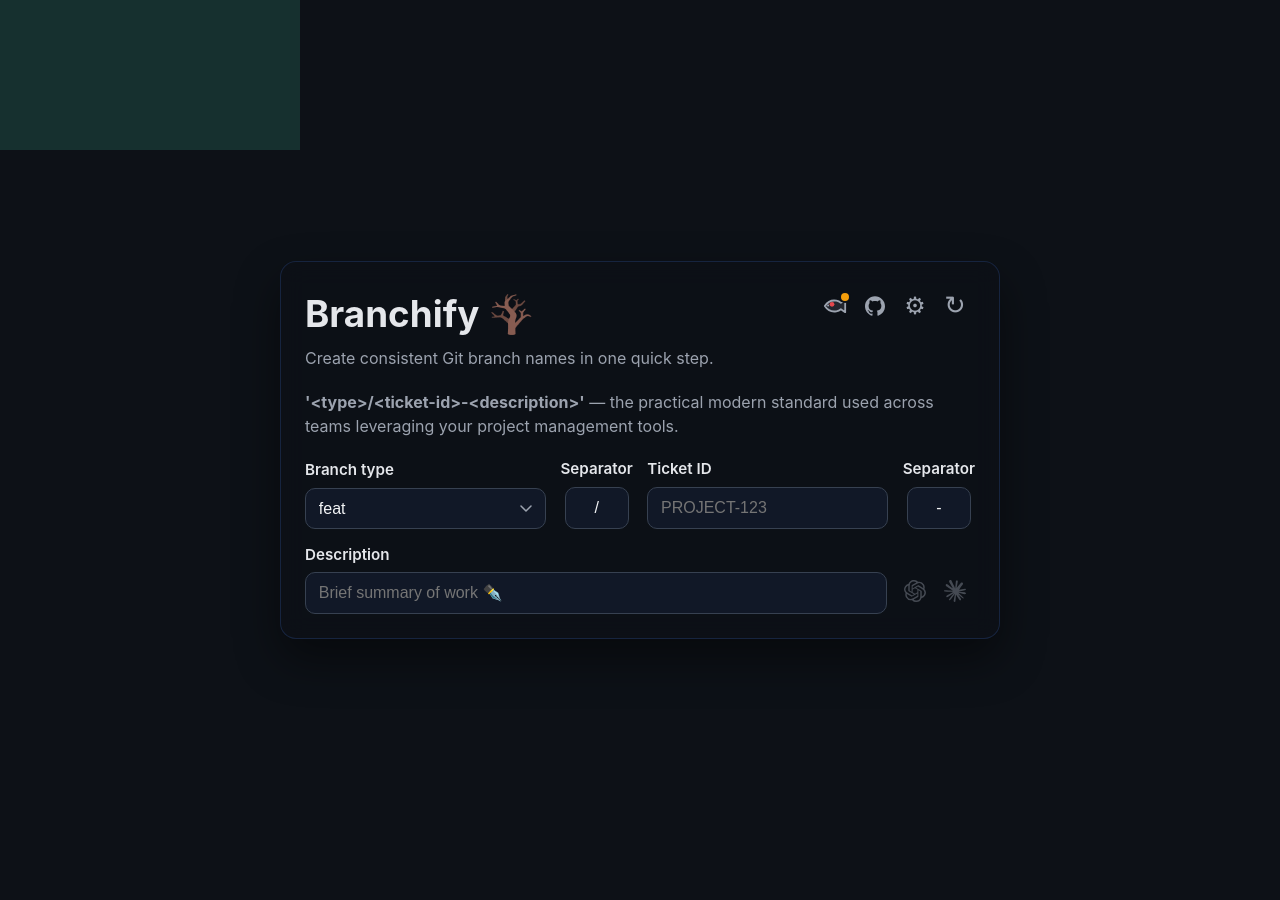
Scenario: App › clears the form on reset
Type "BRF-9" into the field labelled "Ticket ID". click: (768, 508)
box: [647, 487, 888, 529]
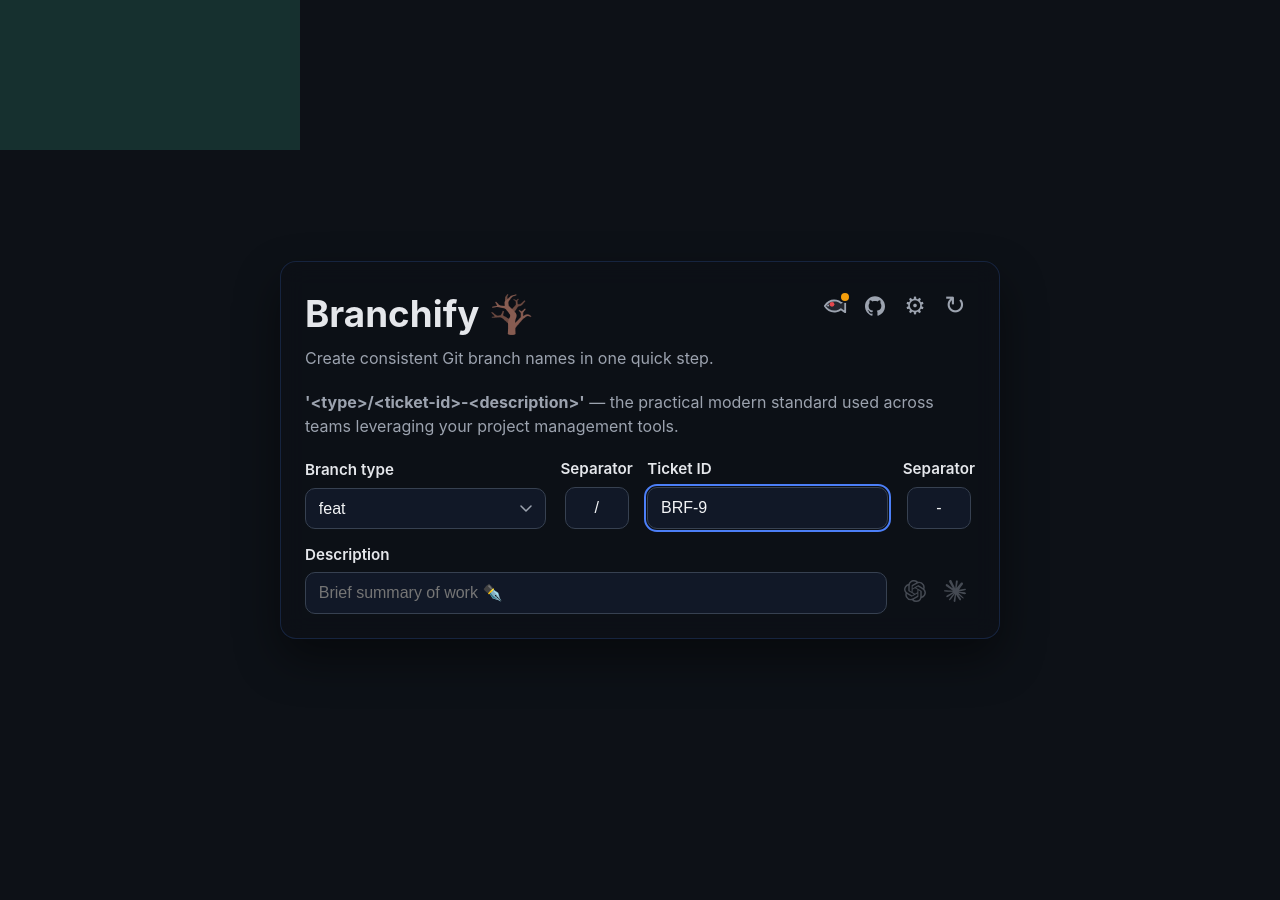
Type "Some work" into the field labelled "Description". click: (596, 593)
box: [305, 572, 887, 614]
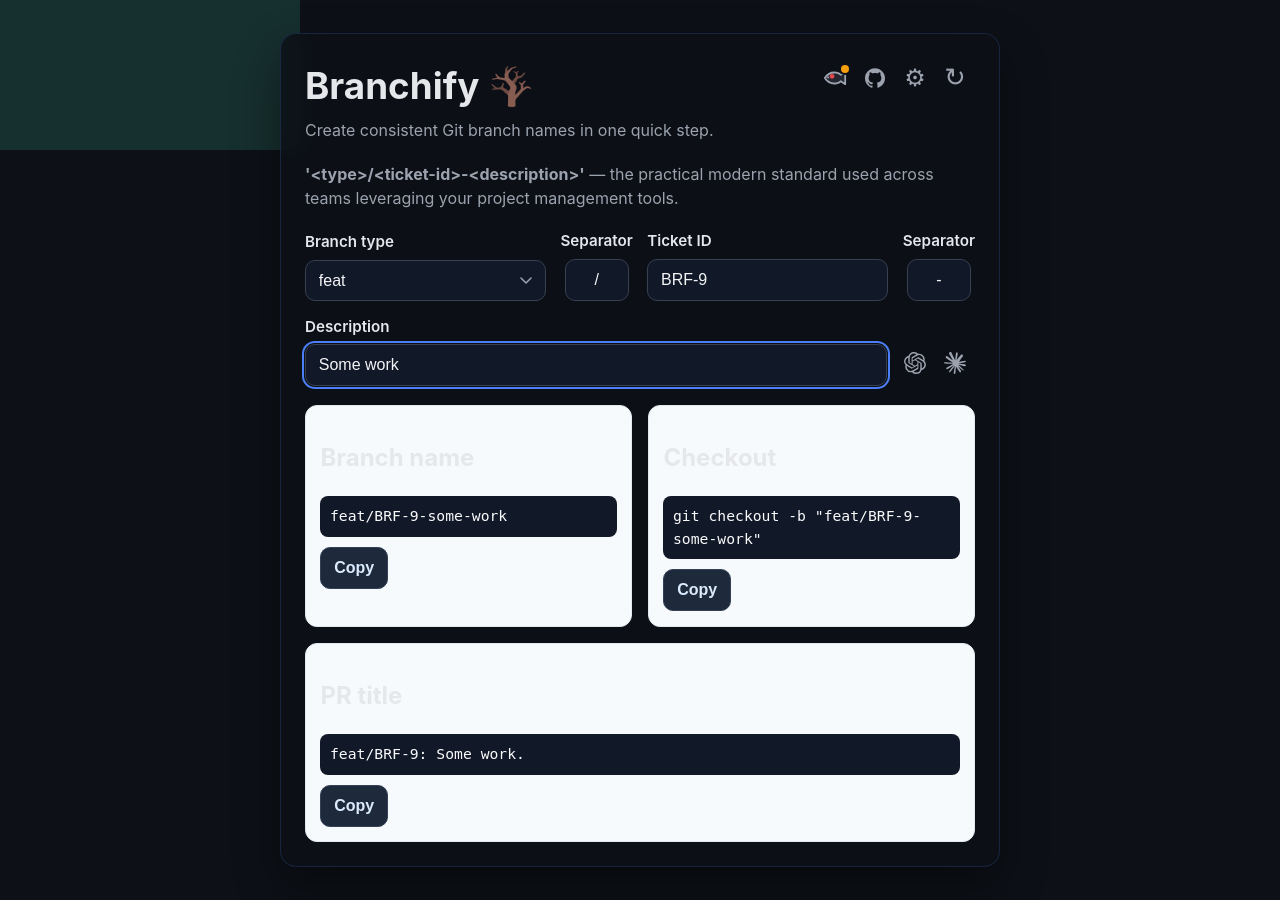
expect the text "feat/BRF-9-some-work" is shown: met, box [320, 496, 617, 537]
Click the button named "Reset form". click: (955, 78)
box: [935, 58, 975, 98]
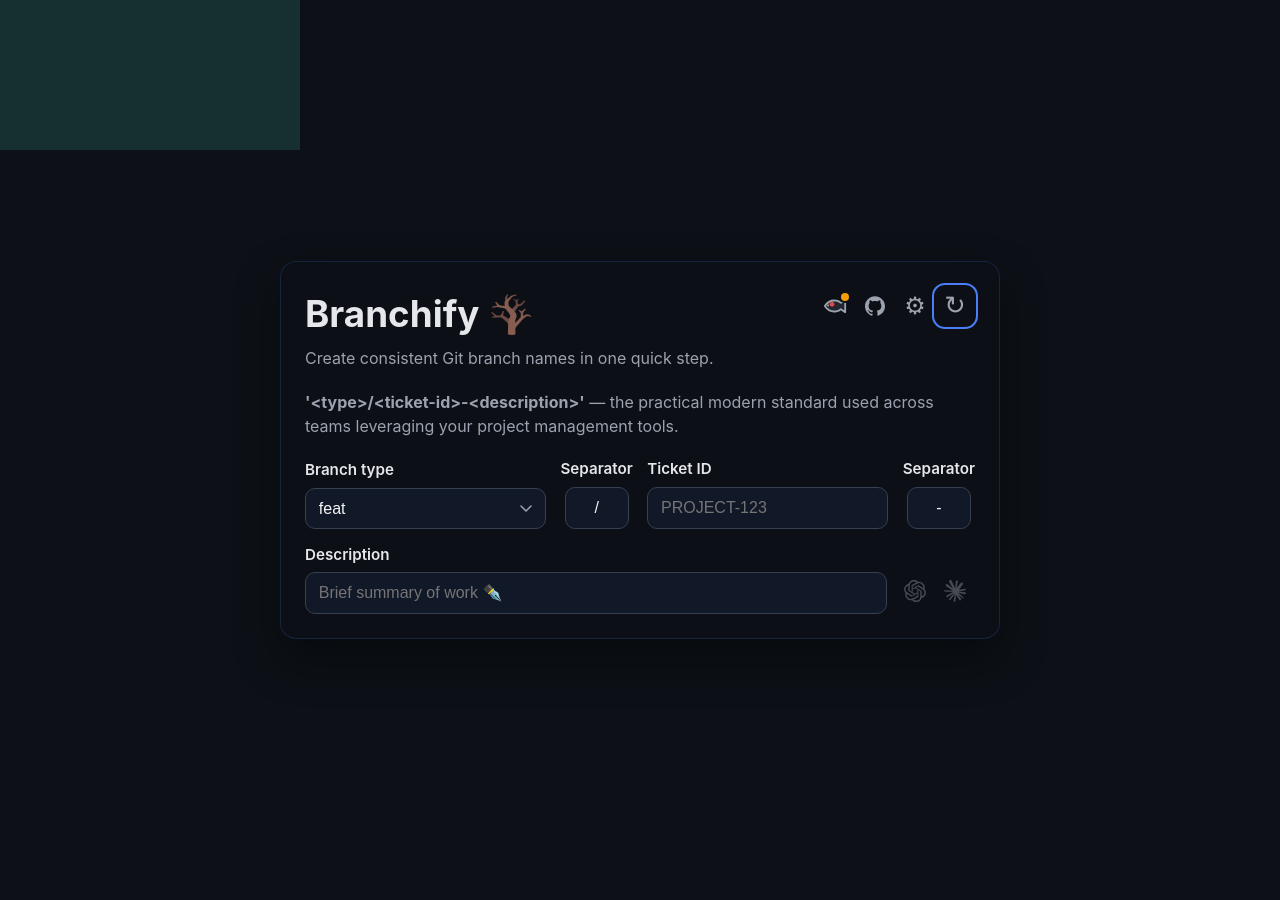
expect the field labelled "Description" is empty: met, box [305, 572, 887, 614]
expect the field labelled "Ticket ID" is empty: met, box [647, 487, 888, 529]
expect the text "feat/BRF-9-some-work" is gone: met
